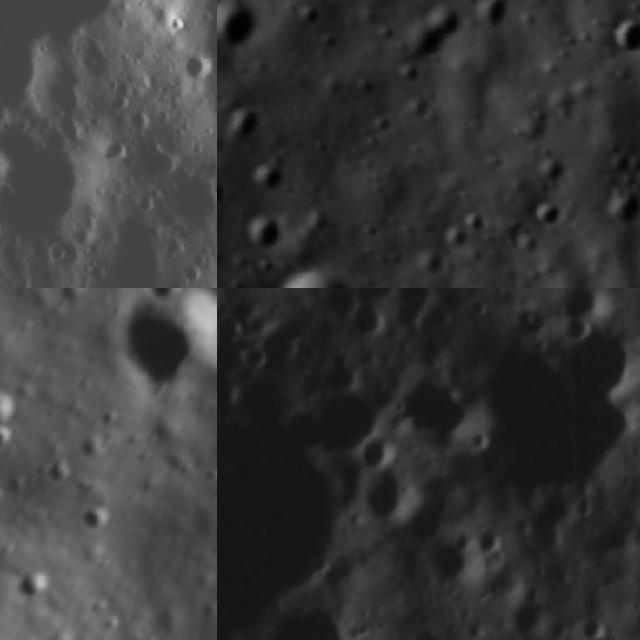crater: (468, 315, 640, 495), (0, 90, 126, 277), (116, 288, 217, 394), (148, 139, 217, 253), (394, 367, 478, 445), (358, 454, 431, 526), (402, 0, 471, 65), (426, 534, 485, 590), (550, 288, 615, 326), (217, 0, 263, 52), (171, 45, 217, 96), (10, 562, 60, 608), (352, 424, 398, 468), (243, 159, 289, 202), (228, 104, 270, 150), (511, 596, 554, 640), (242, 209, 282, 256), (603, 186, 640, 231), (74, 500, 116, 539), (467, 0, 510, 37), (606, 13, 640, 59), (0, 381, 31, 430), (473, 519, 509, 559), (135, 288, 195, 310), (528, 196, 565, 231), (410, 244, 445, 280), (574, 609, 614, 640), (558, 312, 593, 346), (0, 420, 26, 460), (0, 136, 18, 192), (461, 209, 492, 236), (296, 6, 324, 27), (407, 626, 448, 640), (172, 277, 217, 288), (217, 175, 224, 218)
